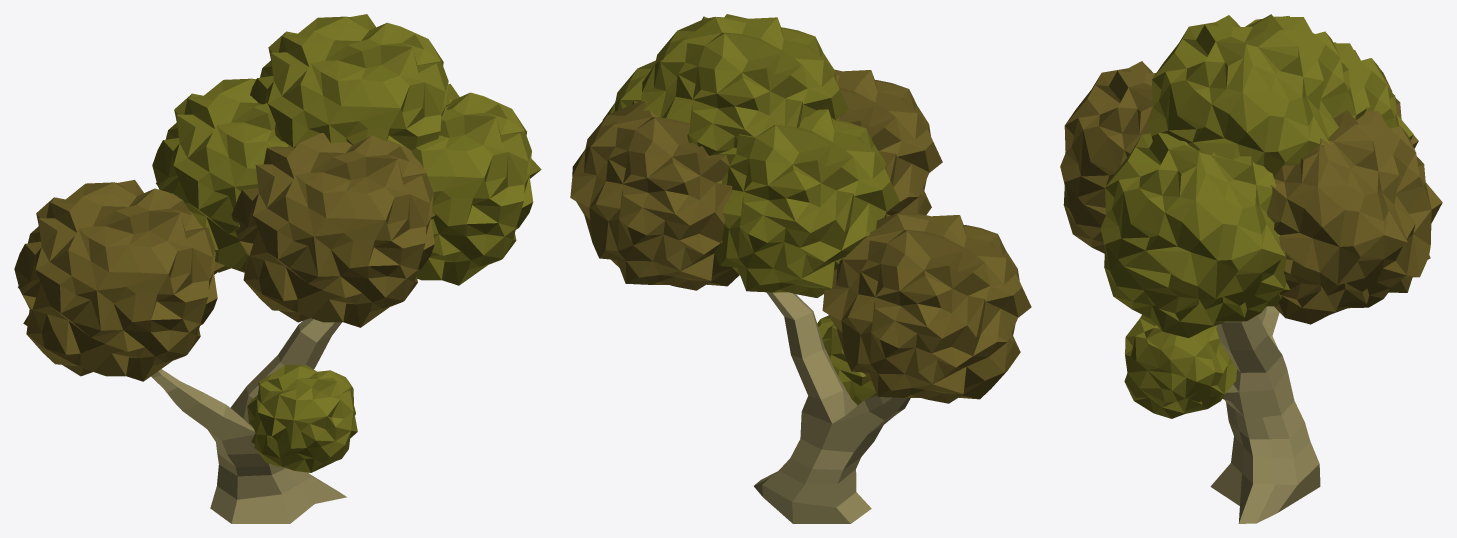
File: Tree_bushy.fbx
3 renders of one model, left to right at view 1: azimuth 30°, elevation 25°; view 2: azimuth 150°, elevation 25°; view 3: azimuth 270°, elevation 25°, orthographic. The views are drawn at different scales.
Visible parts, largest first — view 1: LowPoly Tree .004; view 2: LowPoly Tree .004; view 3: LowPoly Tree .004.
Boxes of the visible parts, x1=… form: LowPoly Tree .004: x1=14, y1=14, x2=541, y2=523; LowPoly Tree .004: x1=570, y1=14, x2=1031, y2=523; LowPoly Tree .004: x1=1060, y1=14, x2=1442, y2=523.
Bounding box in the file's own units: 226 × 220 × 152.
